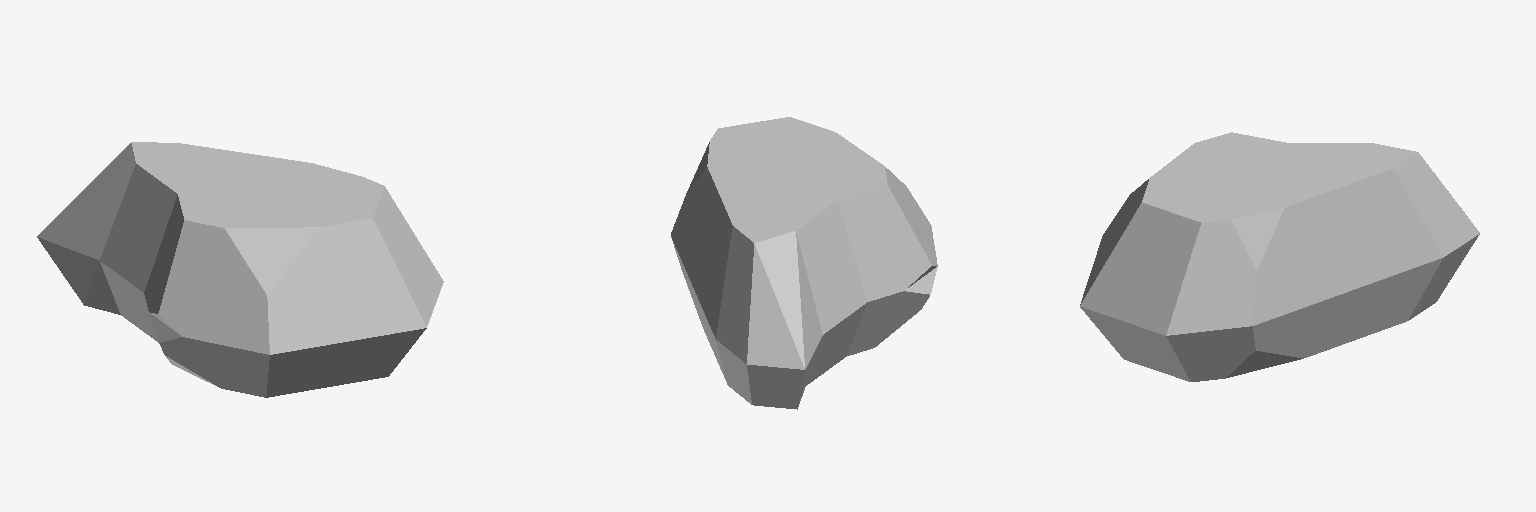
Rendered from stone_large2.obj.
The picture shows the model from 3 angles: view 1: azimuth 30°, elevation 25°; view 2: azimuth 150°, elevation 25°; view 3: azimuth 270°, elevation 25°; orthographic projection.
Parts seen in each view (by area): view 1: stone_large2; view 2: stone_large2; view 3: stone_large2.
Boxes of the visible parts, box(x1,y1,x2,y2) form: stone_large2: box(37, 142, 443, 397); stone_large2: box(671, 117, 937, 409); stone_large2: box(1080, 132, 1479, 381).
Size of the model in its own units: 7.67 by 4.3 by 10.15.